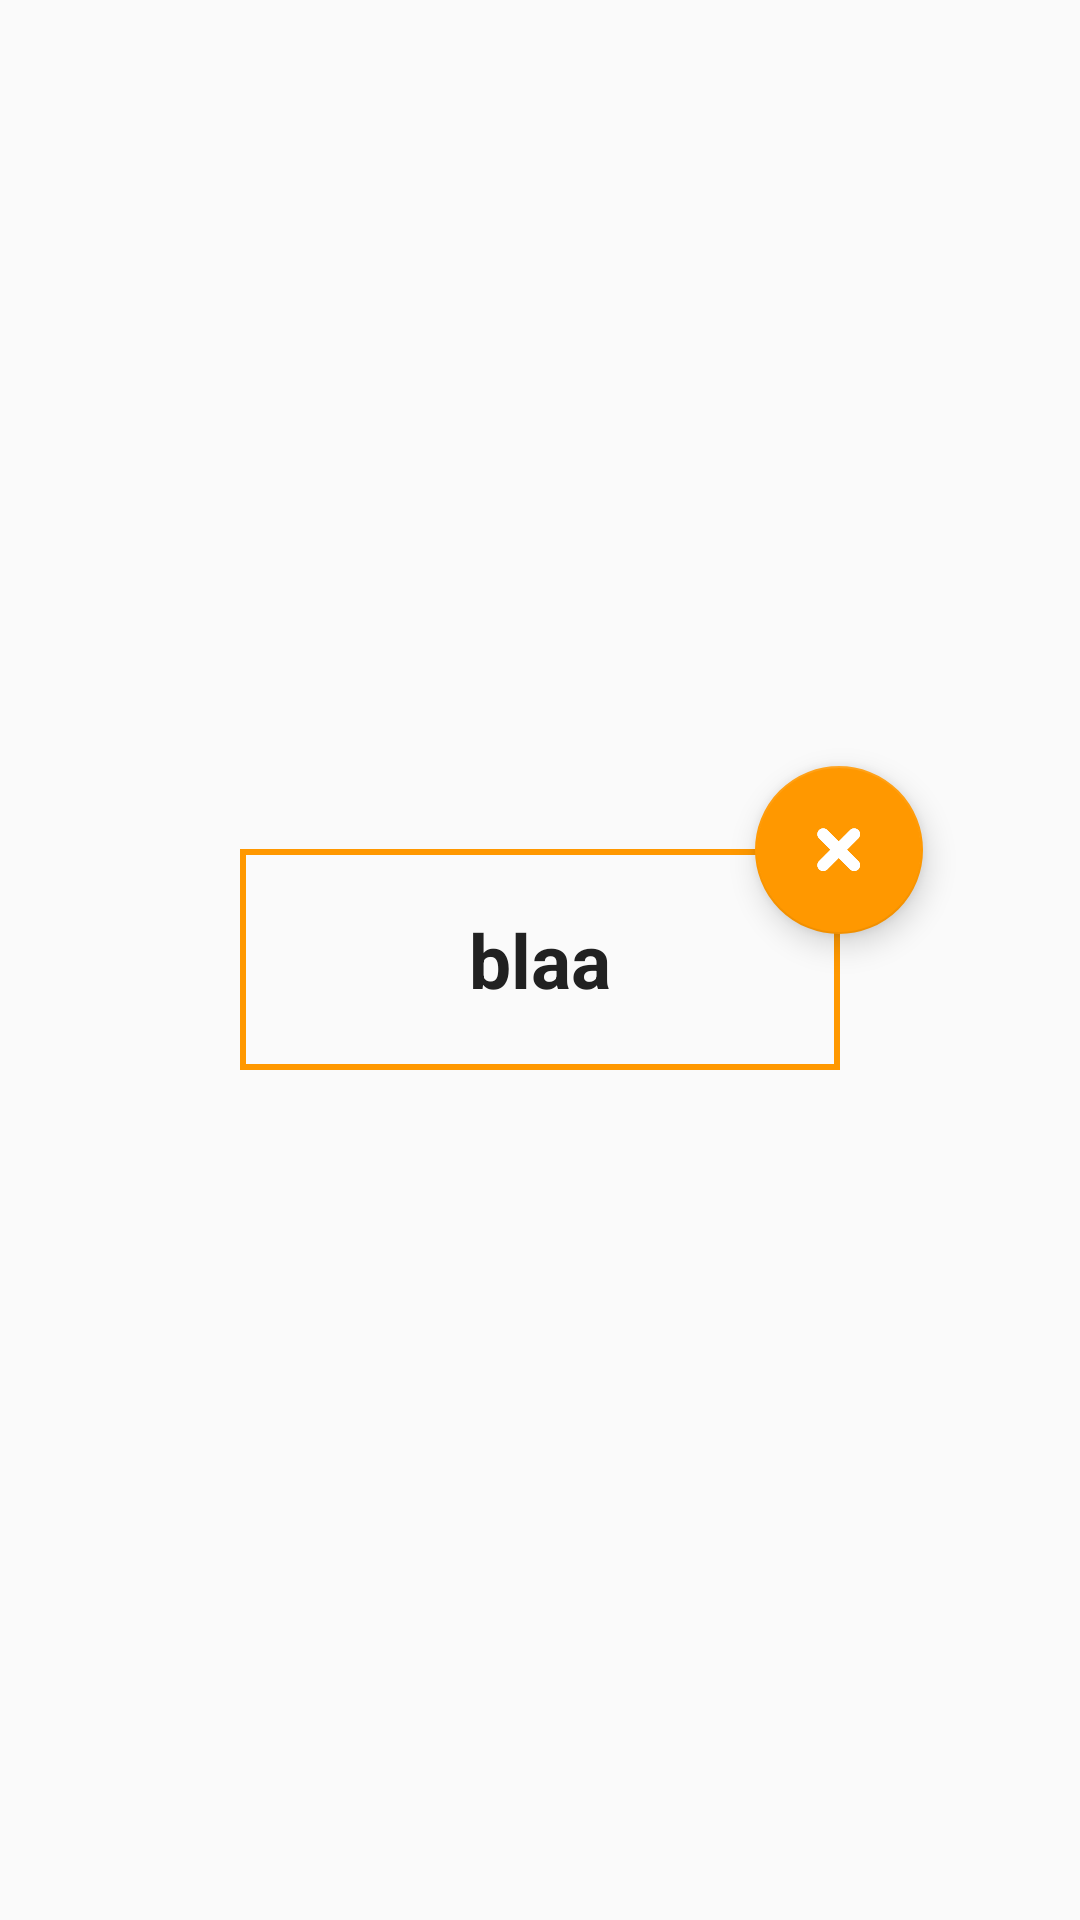

Named icons in this screenshot (1080w x 1920h) and their bounding boxes, (x1, y1, x2, y2):
closecross: (755, 766, 923, 934)
